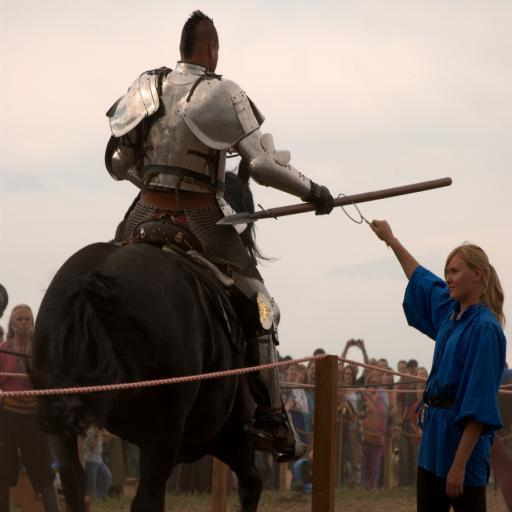horse: (25, 157, 266, 511)
